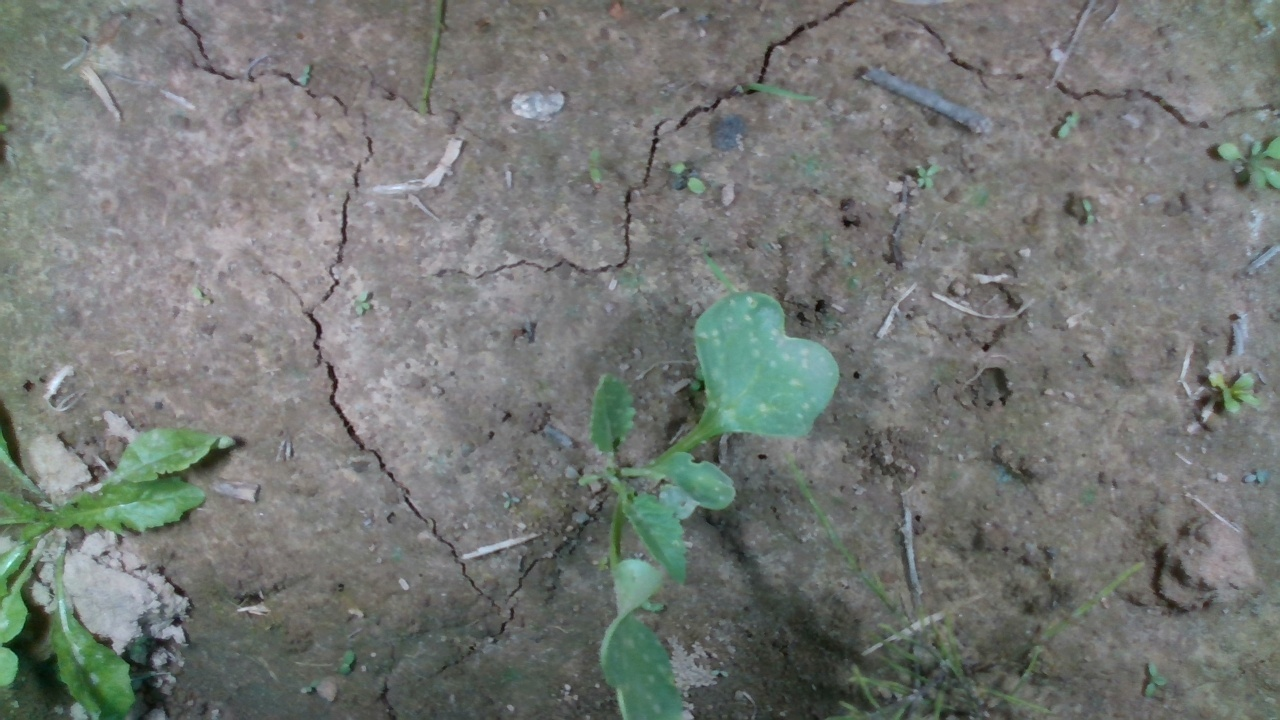weed: (1204, 369, 1257, 416), (667, 160, 707, 196), (1143, 656, 1169, 698), (585, 143, 604, 188), (333, 647, 358, 677), (1057, 108, 1079, 138), (350, 288, 372, 316), (915, 164, 939, 189), (1242, 466, 1269, 488)
